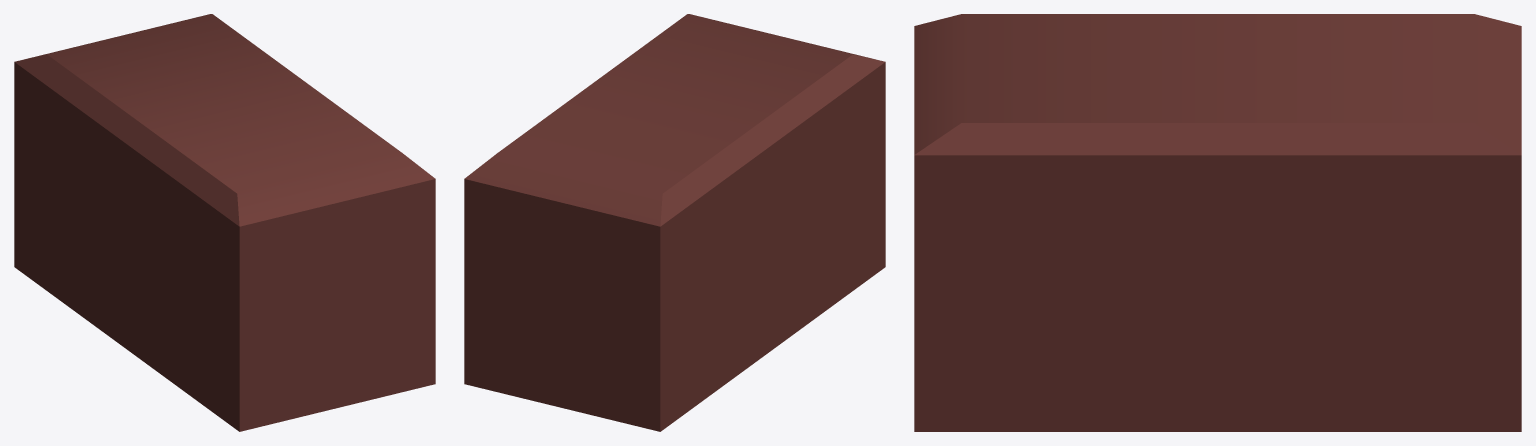
File: Bricks (1).fbx
3 views of the same model, side by side, from view 1: azimuth 30°, elevation 25°; view 2: azimuth 150°, elevation 25°; view 3: azimuth 270°, elevation 25° (orthographic). The views are drawn at different scales.
Parts seen in each view (by area): view 1: Cube; view 2: Cube; view 3: Cube.
Boxes of the visible parts, x1,y1,x2,y2 form: Cube: (14, 14, 435, 431); Cube: (464, 14, 885, 431); Cube: (914, 14, 1521, 431).
Bounding box in the file's own units: 0.5472 × 0.5911 × 1.09.
